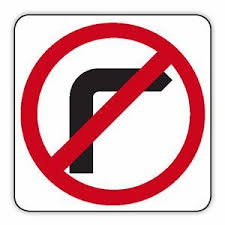No_right_turn: (21, 23, 205, 205)
